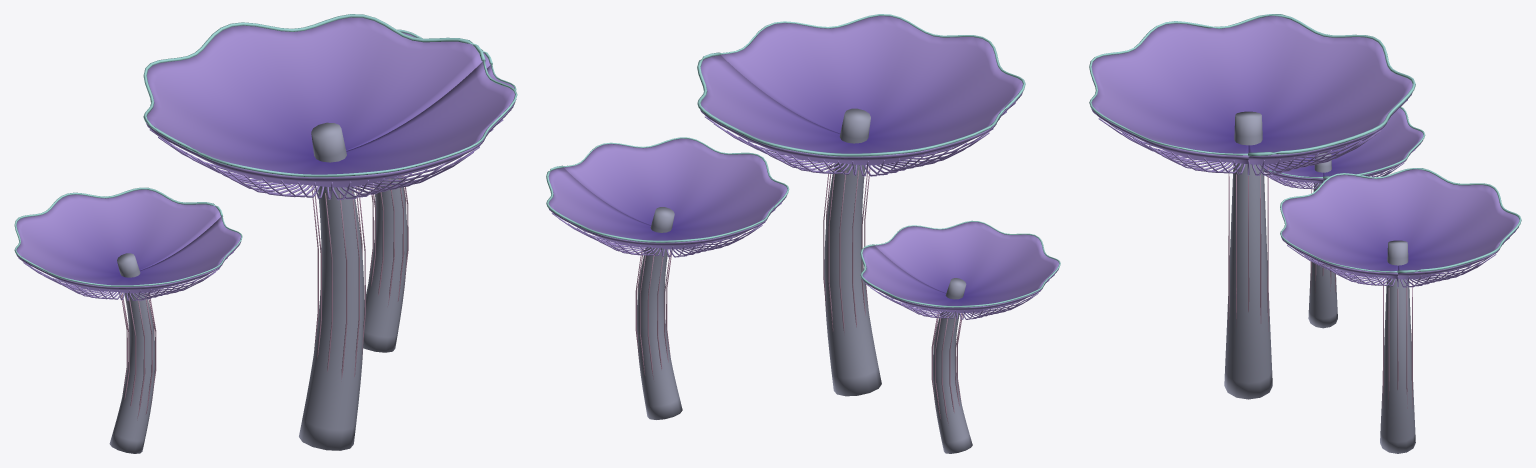
The model's file is enchanted-violet.glb.
3 renders of one model, left to right at view 1: azimuth 30°, elevation 25°; view 2: azimuth 150°, elevation 25°; view 3: azimuth 270°, elevation 25°, orthographic. The views are drawn at different scales.
Visible parts, largest first — view 1: enchanted-violet-sculpted-details; view 2: enchanted-violet-sculpted-details; view 3: enchanted-violet-sculpted-details.
Boxes of the visible parts, bbox=[...] form: enchanted-violet-sculpted-details: bbox=[14, 14, 517, 453]; enchanted-violet-sculpted-details: bbox=[546, 14, 1060, 453]; enchanted-violet-sculpted-details: bbox=[1089, 14, 1521, 453].
Bounding box in the file's own units: 1.53 × 1 × 1.28.
